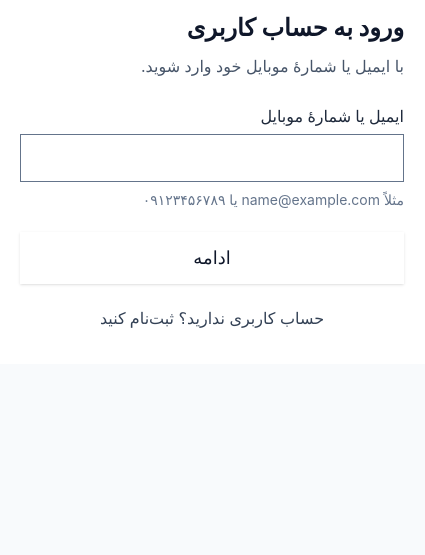
Test: LoginFlow › shows auth_identifier_invalid (attr null) under the identifier field
The image size is (425, 555).
Type "sara@example.c" into the field labelled "ایمیل یا شمارهٔ موبایل".
click(212, 158); type("sara@example.c")  # box 21,135 -> 403,181
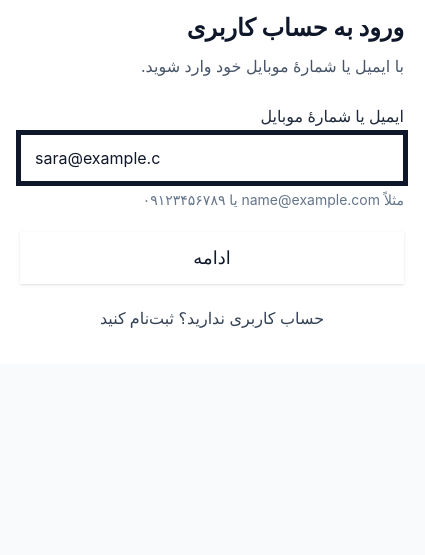
Click the button "ادامه".
click(212, 258)  # box 20,232 -> 404,284
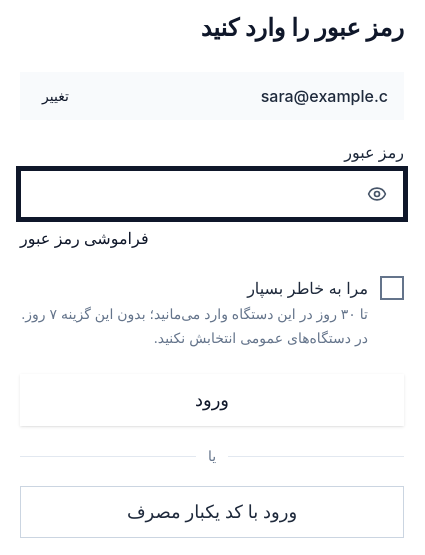
Type "Firefly@1234" into the password field labelled "رمز عبور".
click(188, 194); type("Firefly@1234")  # box 21,171 -> 355,217
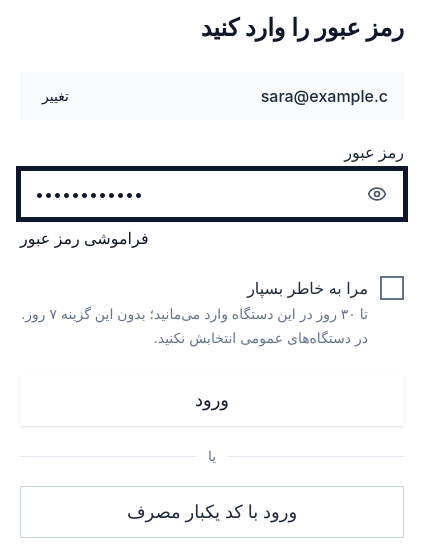
Click the button "ورود".
click(212, 400)  # box 20,374 -> 404,426
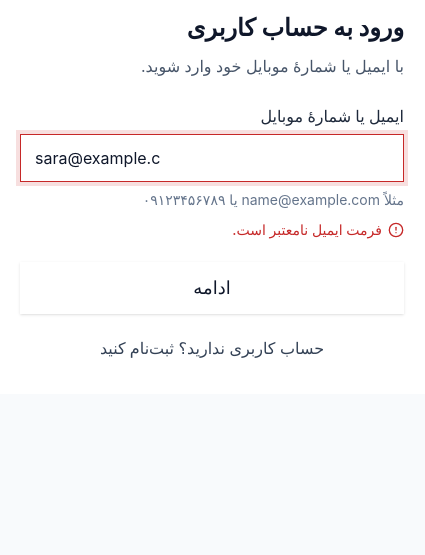
Expected: the field labelled "ایمیل یا شمارهٔ موبایل" holds "sara@example.c", 21,135 -> 403,181
